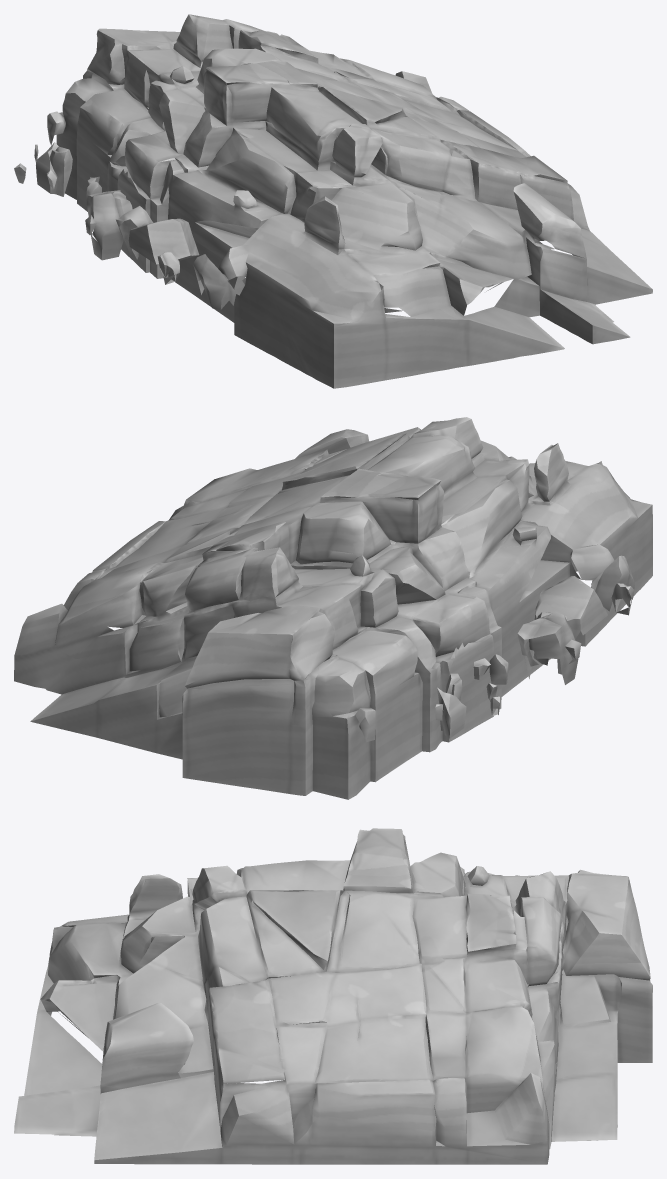
File: sculpted_terrace_03.glb
The picture shows the model from 3 angles, top to bottom: view 1: azimuth 30°, elevation 25°; view 2: azimuth 150°, elevation 25°; view 3: azimuth 270°, elevation 25°; orthographic projection. The views are drawn at different scales.
Visible parts, largest first — view 1: sculpted_terrace_03; view 2: sculpted_terrace_03; view 3: sculpted_terrace_03.
Part boxes in pixels (x1,y1,x2,y2): sculpted_terrace_03: (14,14,652,388); sculpted_terrace_03: (14,417,652,799); sculpted_terrace_03: (14,828,652,1164).
Size of the model in its own units: 20.91 by 8.75 by 26.65.
Materials: 1 (1 with a texture image).
